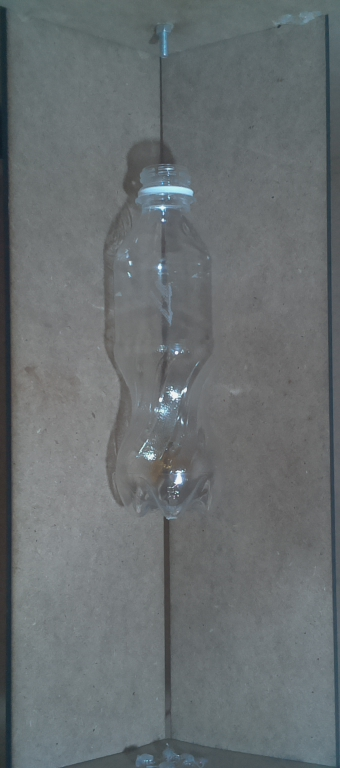Bouteille_0.3L: (100, 151, 235, 543)
